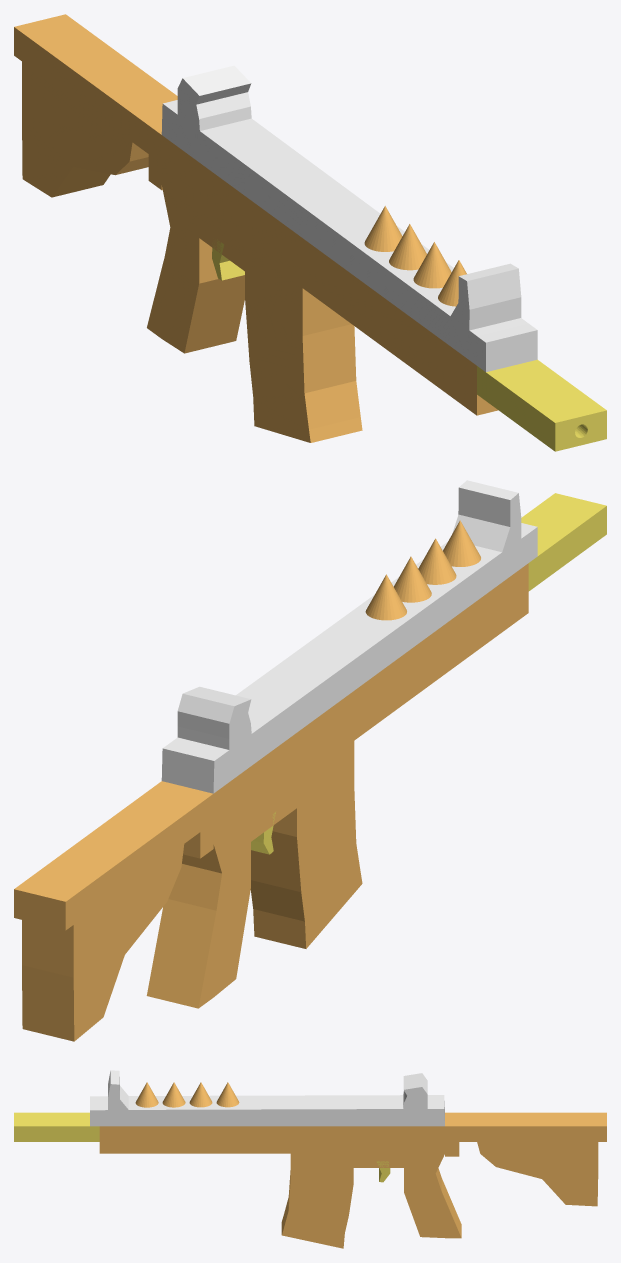
The model's file is sour rifle.fbx.
3 renders of one model, top to bottom at view 1: azimuth 30°, elevation 25°; view 2: azimuth 150°, elevation 25°; view 3: azimuth 270°, elevation 25°, orthographic. The views are drawn at different scales.
Visible parts, largest first — view 1: RifleBase, RifleBase.001, RifleBase.002, Cone.001, Cone.002, Cone.003, RifleTrigger, Cone; view 2: RifleBase, RifleBase.001, RifleBase.002, Cone.003, Cone, Cone.001, Cone.002; view 3: RifleBase, RifleBase.001, RifleBase.002, Cone.001, Cone, Cone.002, Cone.003.
Boxes of the visible parts, box(x1,y1,x2,y2) form: RifleBase: box(14, 14, 498, 442); RifleBase.001: box(161, 65, 537, 371); RifleBase.002: box(477, 359, 606, 451); Cone.001: box(413, 242, 451, 288); Cone.002: box(389, 224, 426, 270); Cone.003: box(364, 206, 402, 251); RifleTrigger: box(212, 239, 244, 280); Cone: box(438, 260, 466, 306); RifleBase: box(14, 563, 528, 1041); RifleBase.001: box(161, 480, 537, 793); RifleBase.002: box(521, 493, 606, 591); Cone.003: box(365, 574, 406, 620); Cone: box(443, 520, 480, 566); Cone.001: box(418, 538, 456, 584); Cone.002: box(394, 556, 431, 602); RifleBase: box(99, 1112, 606, 1248); RifleBase.001: box(90, 1070, 444, 1126); RifleBase.002: box(14, 1112, 99, 1141); Cone.001: box(162, 1082, 185, 1107); Cone: box(135, 1082, 158, 1107); Cone.002: box(189, 1082, 212, 1107); Cone.003: box(216, 1082, 239, 1107).
Size of the model in its own units: 26 by 144 by 471.
